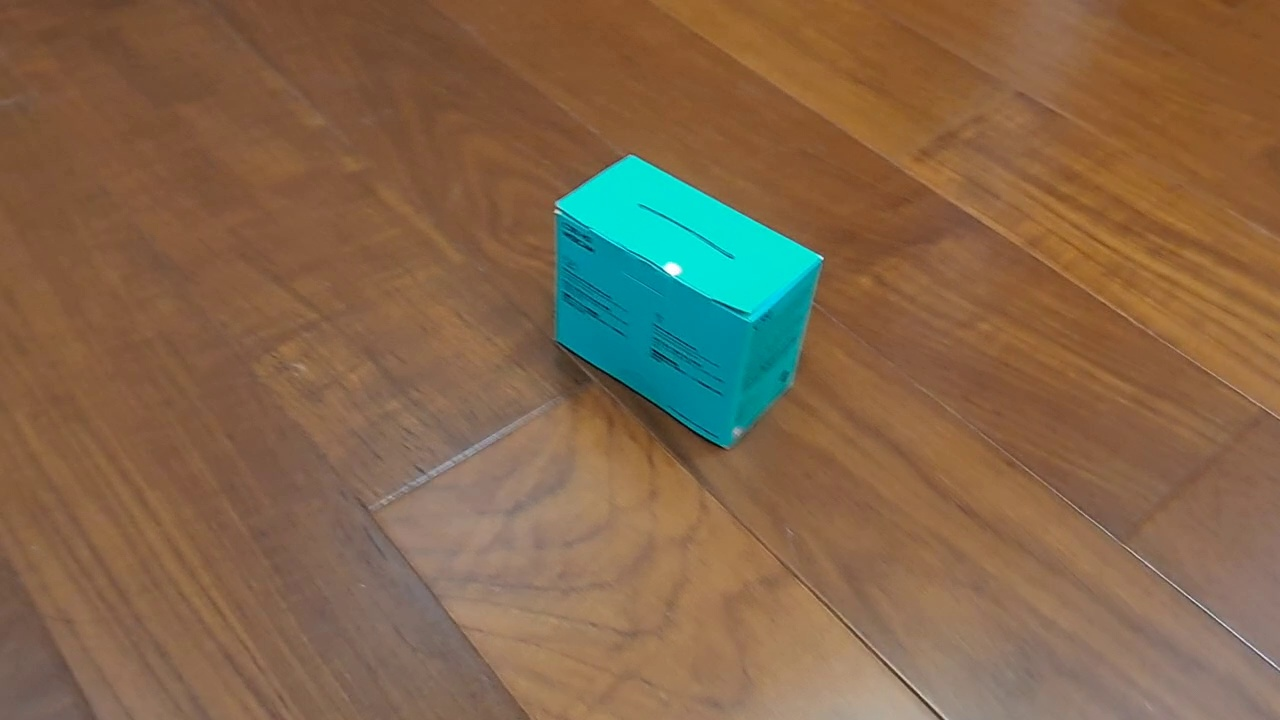webcam: (551, 151, 827, 453)
